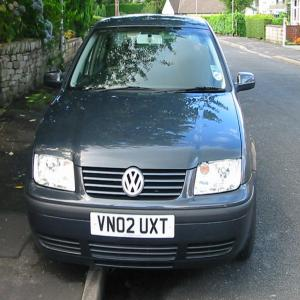Vehicle-registration-plate: (84, 213, 194, 252)
